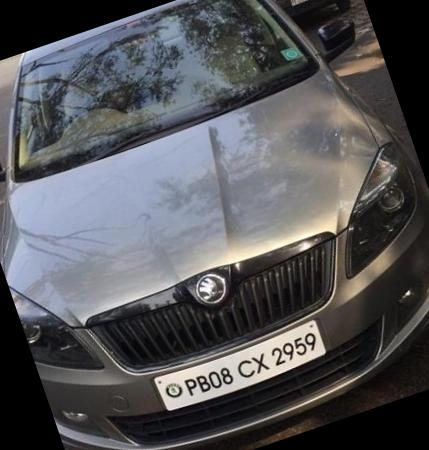plate: (134, 298, 352, 435)
